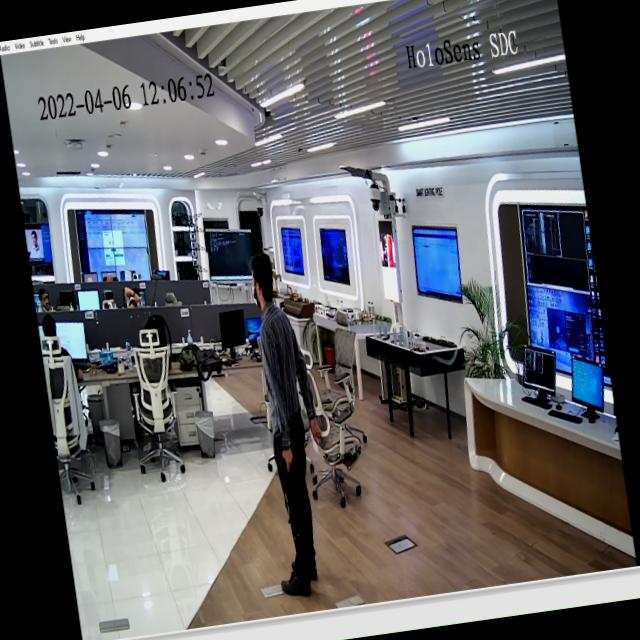long weapon: (272, 424, 306, 561)
